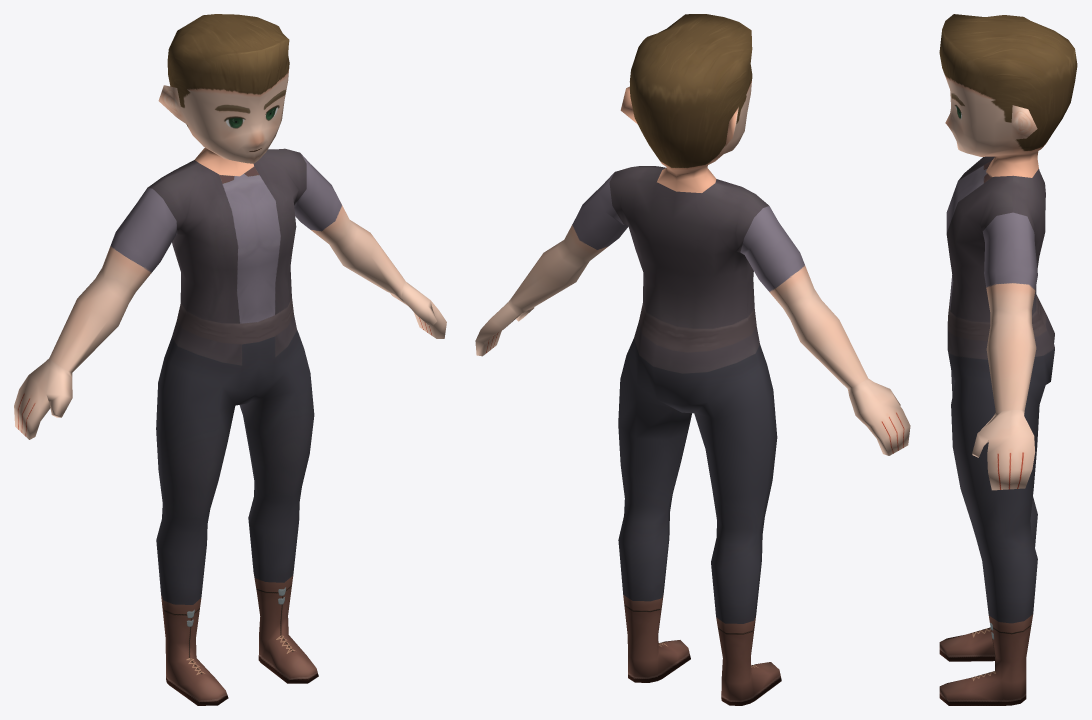
3 views of the same model, side by side, from view 1: azimuth 30°, elevation 25°; view 2: azimuth 150°, elevation 25°; view 3: azimuth 270°, elevation 25° (orthographic).
Visible parts, largest first — view 1: Peasant Bryon; view 2: Peasant Bryon; view 3: Peasant Bryon.
Boxes of the visible parts, bbox=[...] form: Peasant Bryon: bbox=[14, 14, 446, 705]; Peasant Bryon: bbox=[475, 14, 910, 705]; Peasant Bryon: bbox=[939, 14, 1077, 705].
Bounding box in the file's own units: 128 × 190 × 36.49.
